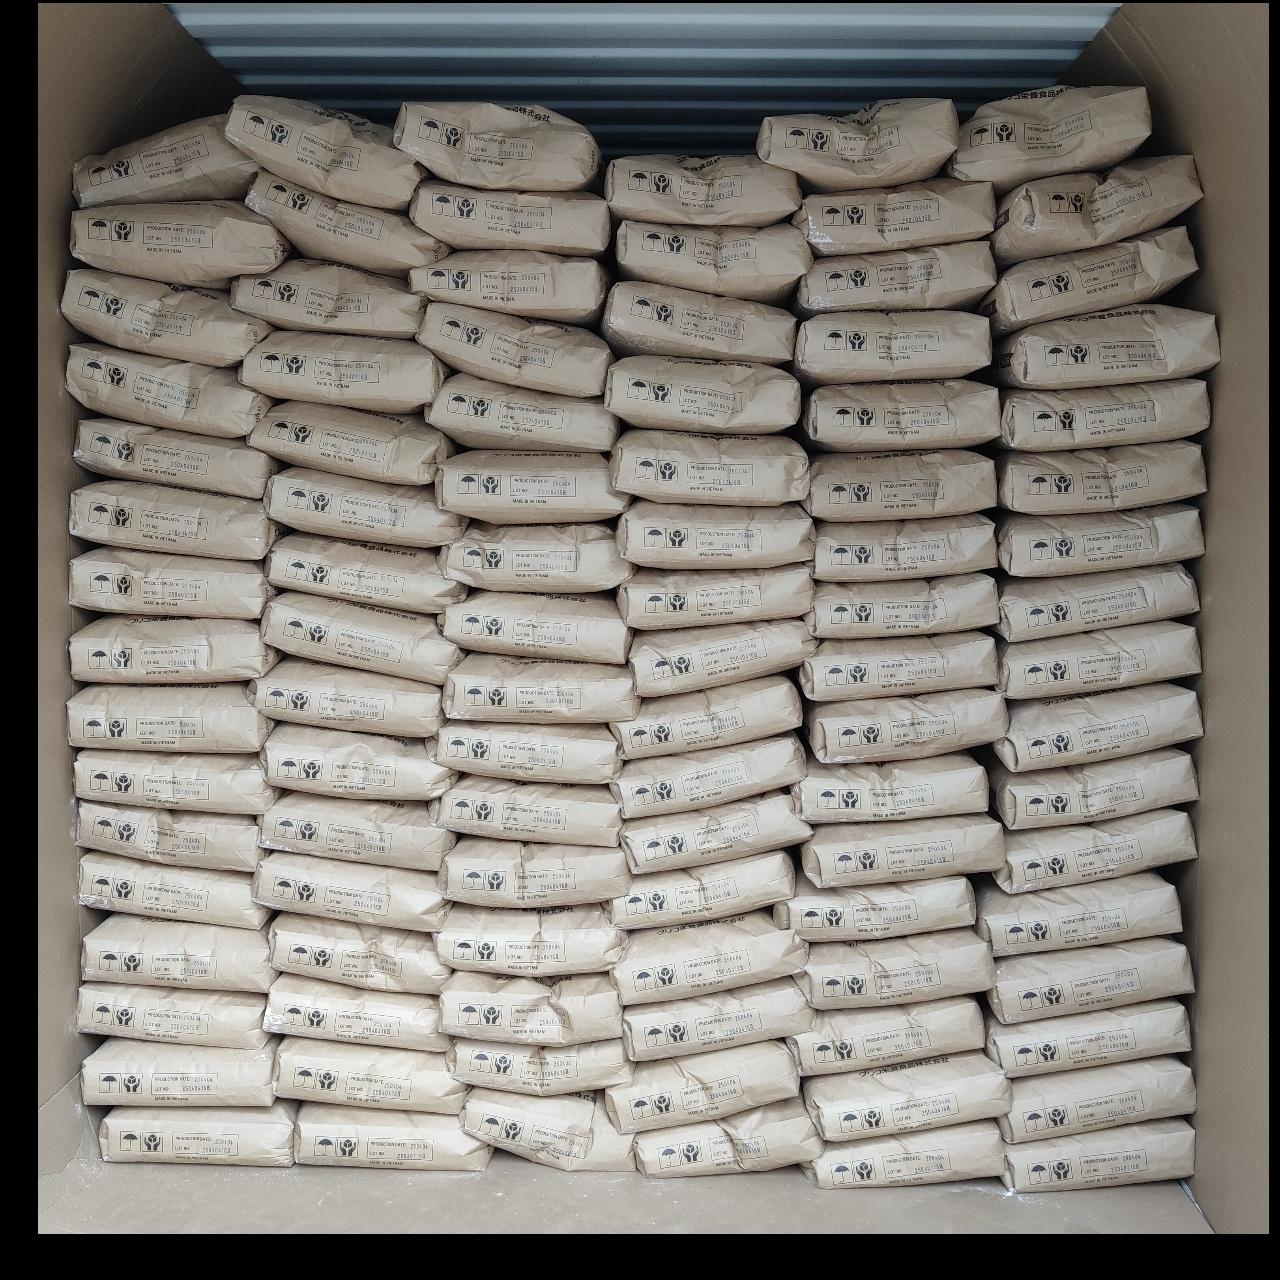sack: (226, 96, 424, 206), (983, 229, 1194, 332), (994, 156, 1198, 263), (949, 86, 1150, 190), (64, 268, 270, 365), (66, 342, 270, 436), (248, 176, 445, 272), (992, 306, 1218, 388), (72, 202, 288, 286), (612, 912, 806, 1002), (804, 1051, 1006, 1138), (394, 102, 598, 188), (760, 100, 958, 188), (263, 592, 459, 680), (988, 938, 1190, 1022), (606, 1042, 798, 1130), (418, 304, 610, 392), (976, 872, 1180, 954), (74, 114, 254, 206), (994, 685, 1200, 765), (240, 332, 445, 411), (996, 810, 1194, 892), (70, 481, 280, 558), (1000, 1058, 1194, 1142), (250, 402, 452, 482), (990, 750, 1194, 828), (602, 282, 794, 365), (617, 222, 810, 302), (266, 468, 464, 546), (986, 1000, 1190, 1076), (612, 676, 798, 758), (794, 178, 994, 254), (74, 418, 275, 493), (998, 622, 1198, 697), (1000, 377, 1206, 450), (268, 535, 462, 612), (787, 998, 982, 1074), (612, 736, 804, 813), (624, 980, 812, 1058), (260, 792, 454, 869), (256, 852, 445, 930), (232, 260, 422, 338), (82, 914, 274, 990), (250, 658, 442, 734), (425, 374, 618, 450), (798, 930, 990, 1006), (998, 564, 1196, 638), (410, 181, 606, 254), (798, 240, 994, 314), (604, 356, 798, 430), (411, 250, 606, 324), (998, 504, 1201, 574), (260, 724, 454, 798), (622, 794, 808, 870), (610, 430, 806, 502), (998, 442, 1204, 510), (636, 1098, 821, 1175), (80, 852, 268, 926), (806, 690, 1006, 760), (70, 549, 270, 618), (796, 312, 990, 382), (266, 974, 445, 1050), (70, 617, 278, 682), (629, 620, 813, 694), (608, 852, 792, 926), (436, 450, 628, 520), (275, 1039, 464, 1110), (804, 816, 1002, 884), (270, 914, 445, 990), (799, 632, 996, 700), (792, 753, 986, 822), (462, 1088, 629, 1167), (440, 592, 629, 662), (804, 380, 998, 448), (440, 972, 620, 1044), (436, 904, 622, 974), (70, 685, 270, 750), (606, 154, 798, 222), (1002, 1121, 1190, 1190), (776, 874, 972, 940), (74, 802, 263, 870), (440, 838, 628, 906), (618, 501, 812, 566), (804, 1122, 1002, 1186), (806, 450, 994, 518), (434, 776, 620, 844), (444, 654, 638, 719), (440, 524, 629, 590), (294, 1104, 490, 1167), (76, 750, 275, 812), (618, 566, 812, 628), (79, 982, 266, 1046), (813, 515, 994, 580), (808, 574, 996, 636), (84, 1040, 272, 1102), (430, 722, 620, 782), (102, 1107, 294, 1164), (450, 1040, 629, 1094)
